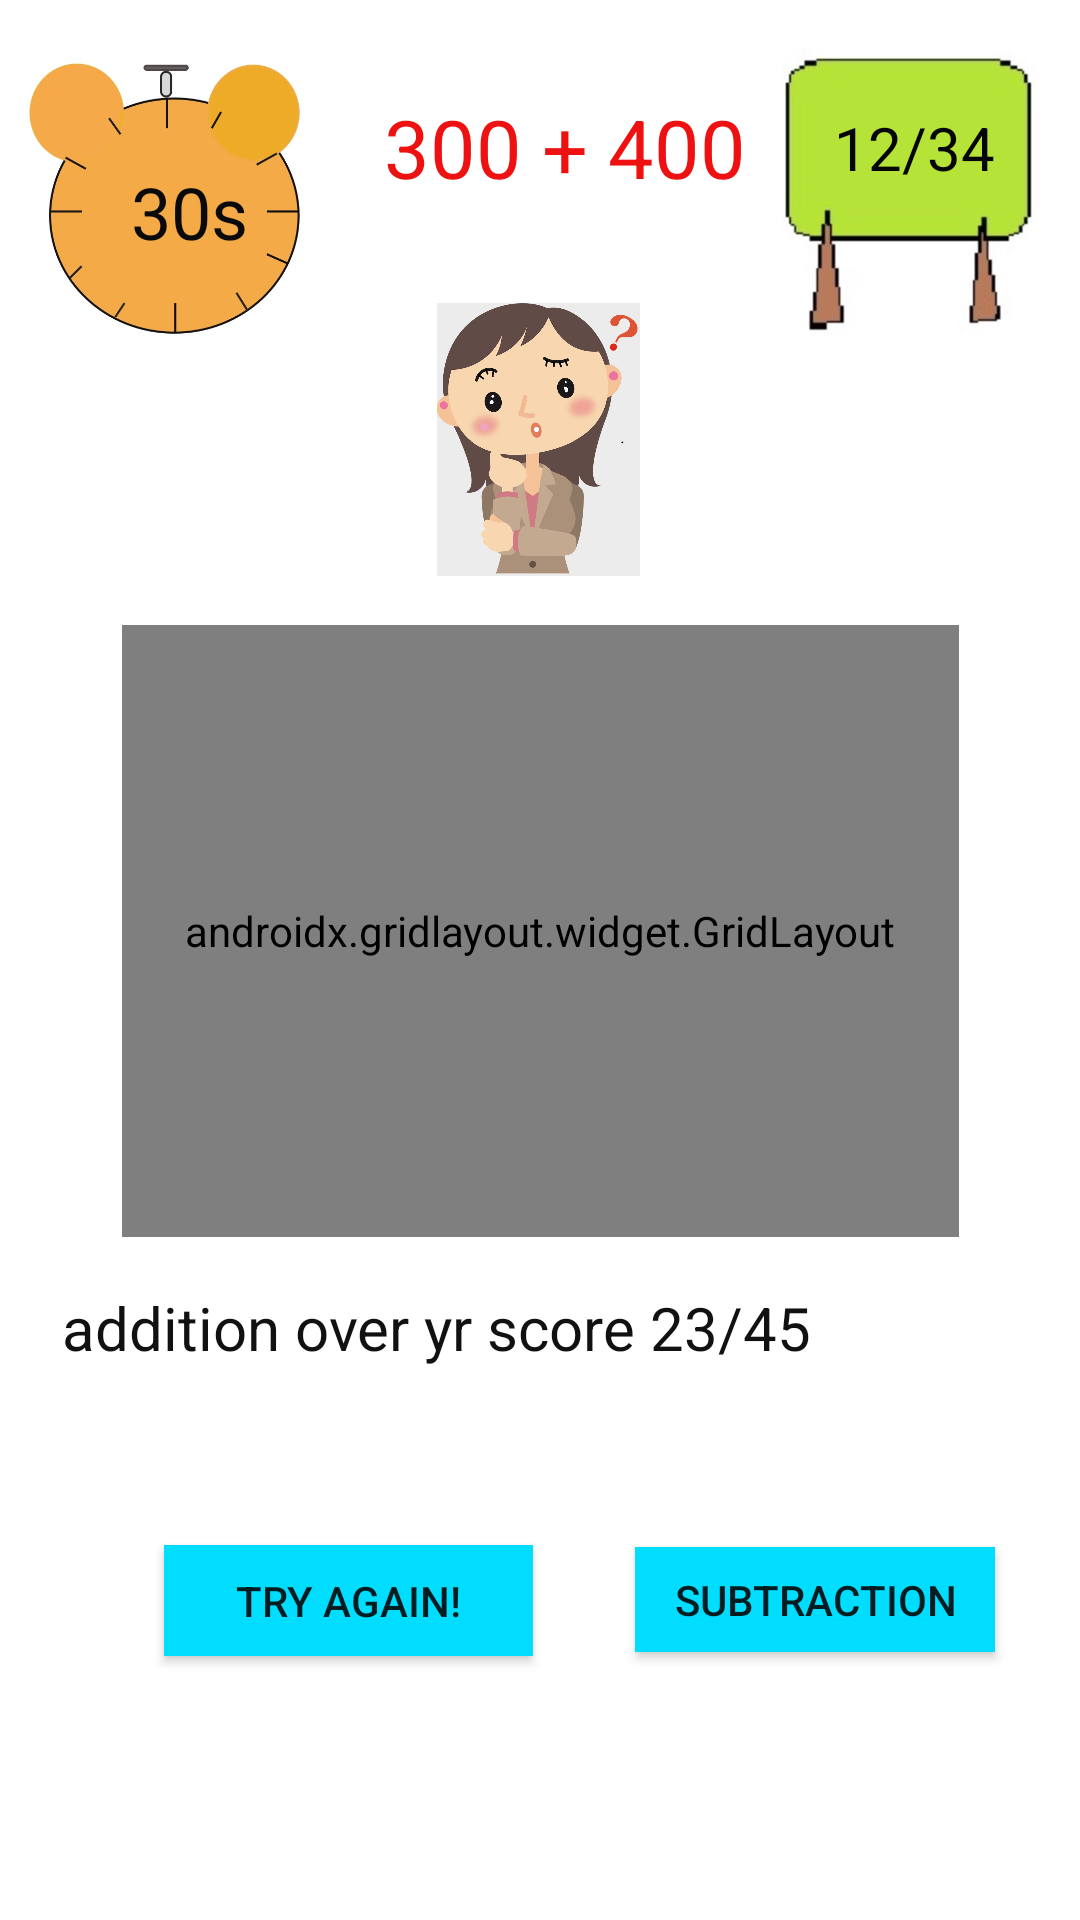

Where to tap for icons on this 1080px x 1920px app screen, as (x,y):
clock: (164,198)
